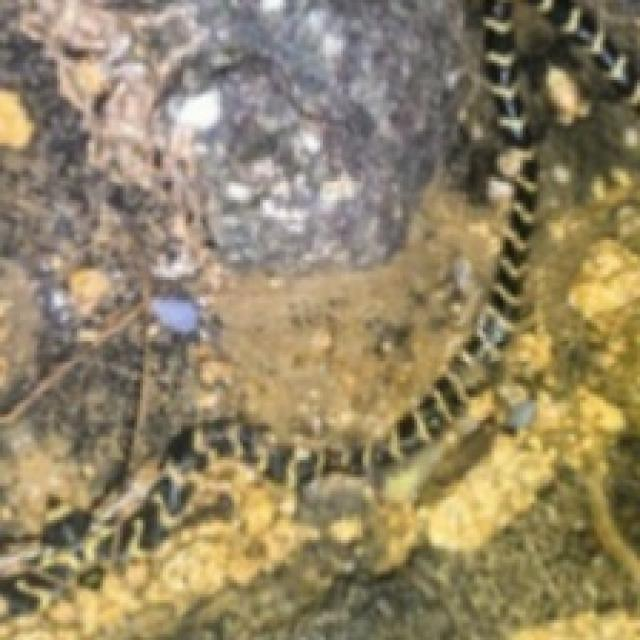king cobra: (0, 0, 637, 637), (217, 200, 414, 271), (354, 80, 463, 191)
